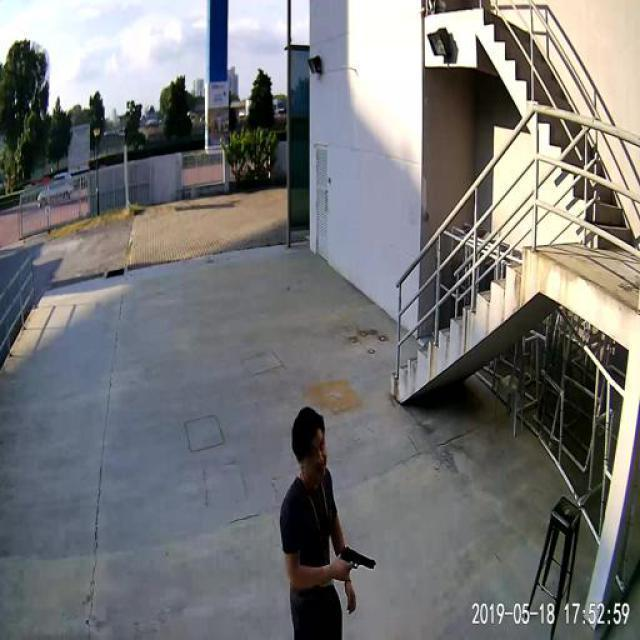gun: (338, 542, 373, 572)
